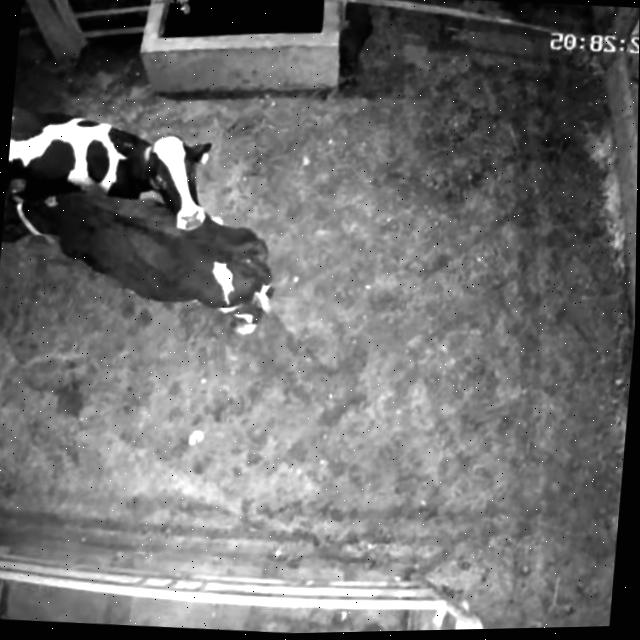propping: (109, 118, 242, 288)
